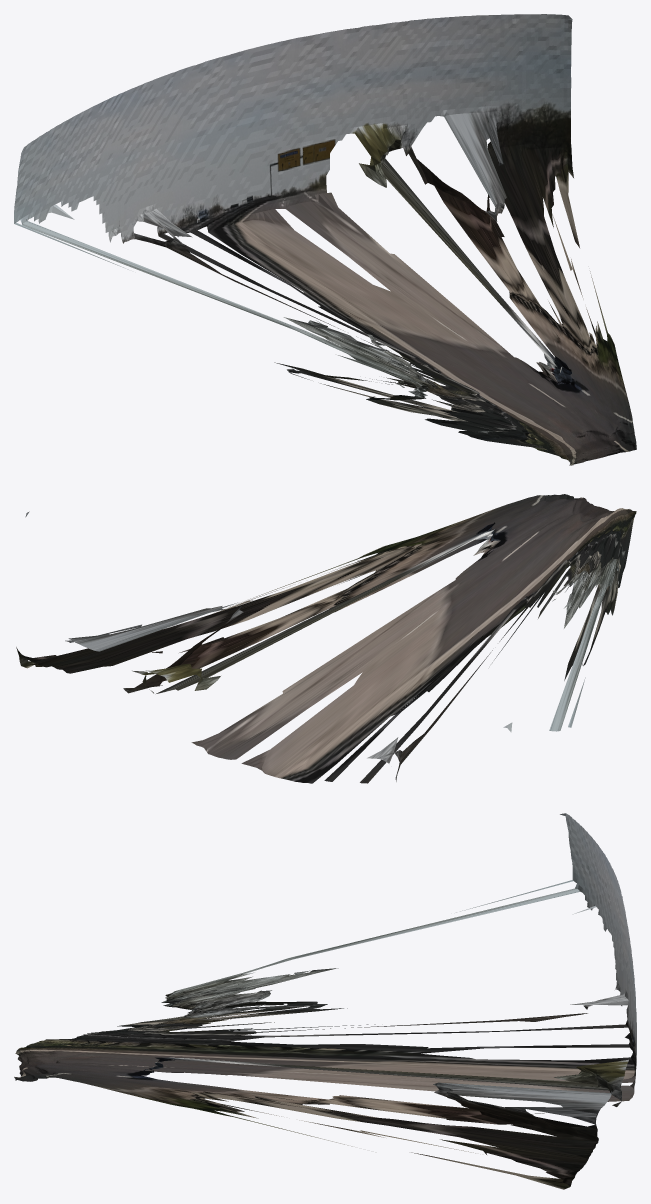
3 views of the same model, one above another, from view 1: azimuth 30°, elevation 25°; view 2: azimuth 150°, elevation 25°; view 3: azimuth 270°, elevation 25° (orthographic). The views are drawn at different scales.
Visible parts, largest first — view 1: defaultobject; view 2: defaultobject; view 3: defaultobject.
Boxes of the visible parts, x1,y1,x2,y2 form: defaultobject: (14, 14, 636, 465); defaultobject: (16, 494, 636, 783); defaultobject: (14, 813, 636, 1189).
Size of the model in its own units: 41.09 by 12.68 by 44.49.
1 material, 1 textured.
